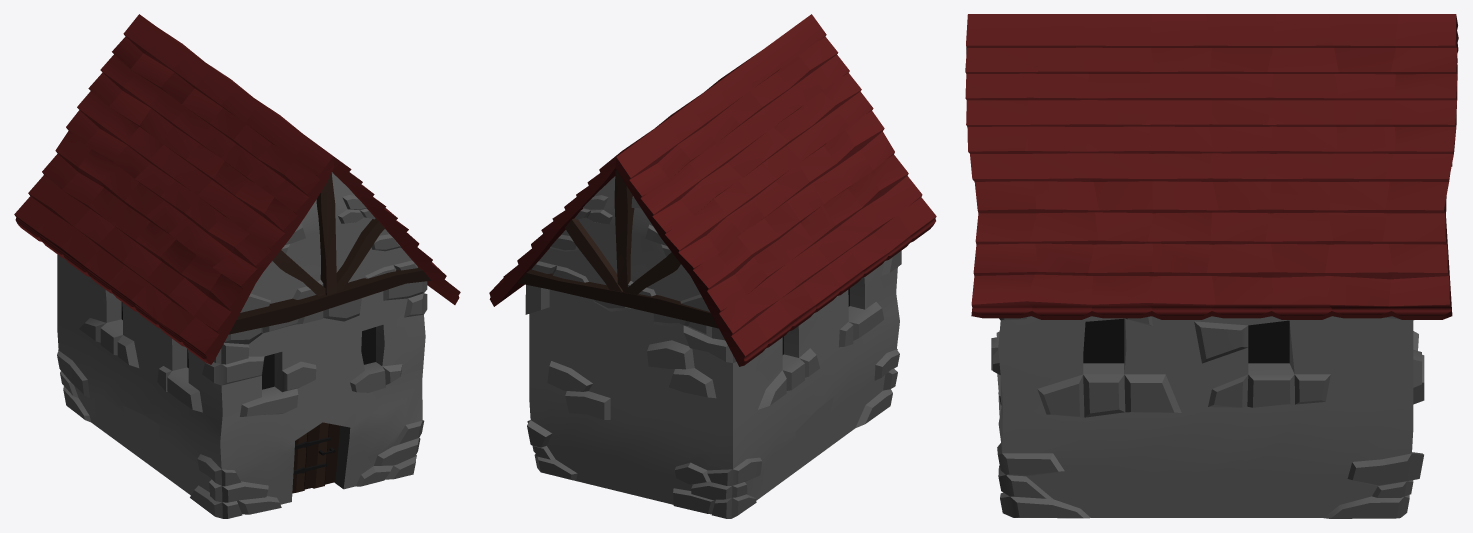
File: Building05.fbx
3 views of the same model, side by side, from view 1: azimuth 30°, elevation 25°; view 2: azimuth 150°, elevation 25°; view 3: azimuth 270°, elevation 25° (orthographic). The views are drawn at different scales.
Visible parts, largest first — view 1: BuildingHouse06; view 2: BuildingHouse06; view 3: BuildingHouse06.
Part boxes in pixels (x1=…): BuildingHouse06: x1=14, y1=14, x2=460, y2=518; BuildingHouse06: x1=489, y1=14, x2=936, y2=518; BuildingHouse06: x1=965, y1=14, x2=1458, y2=518.
Bounding box in the file's own units: 2.64 × 3.42 × 3.44.
